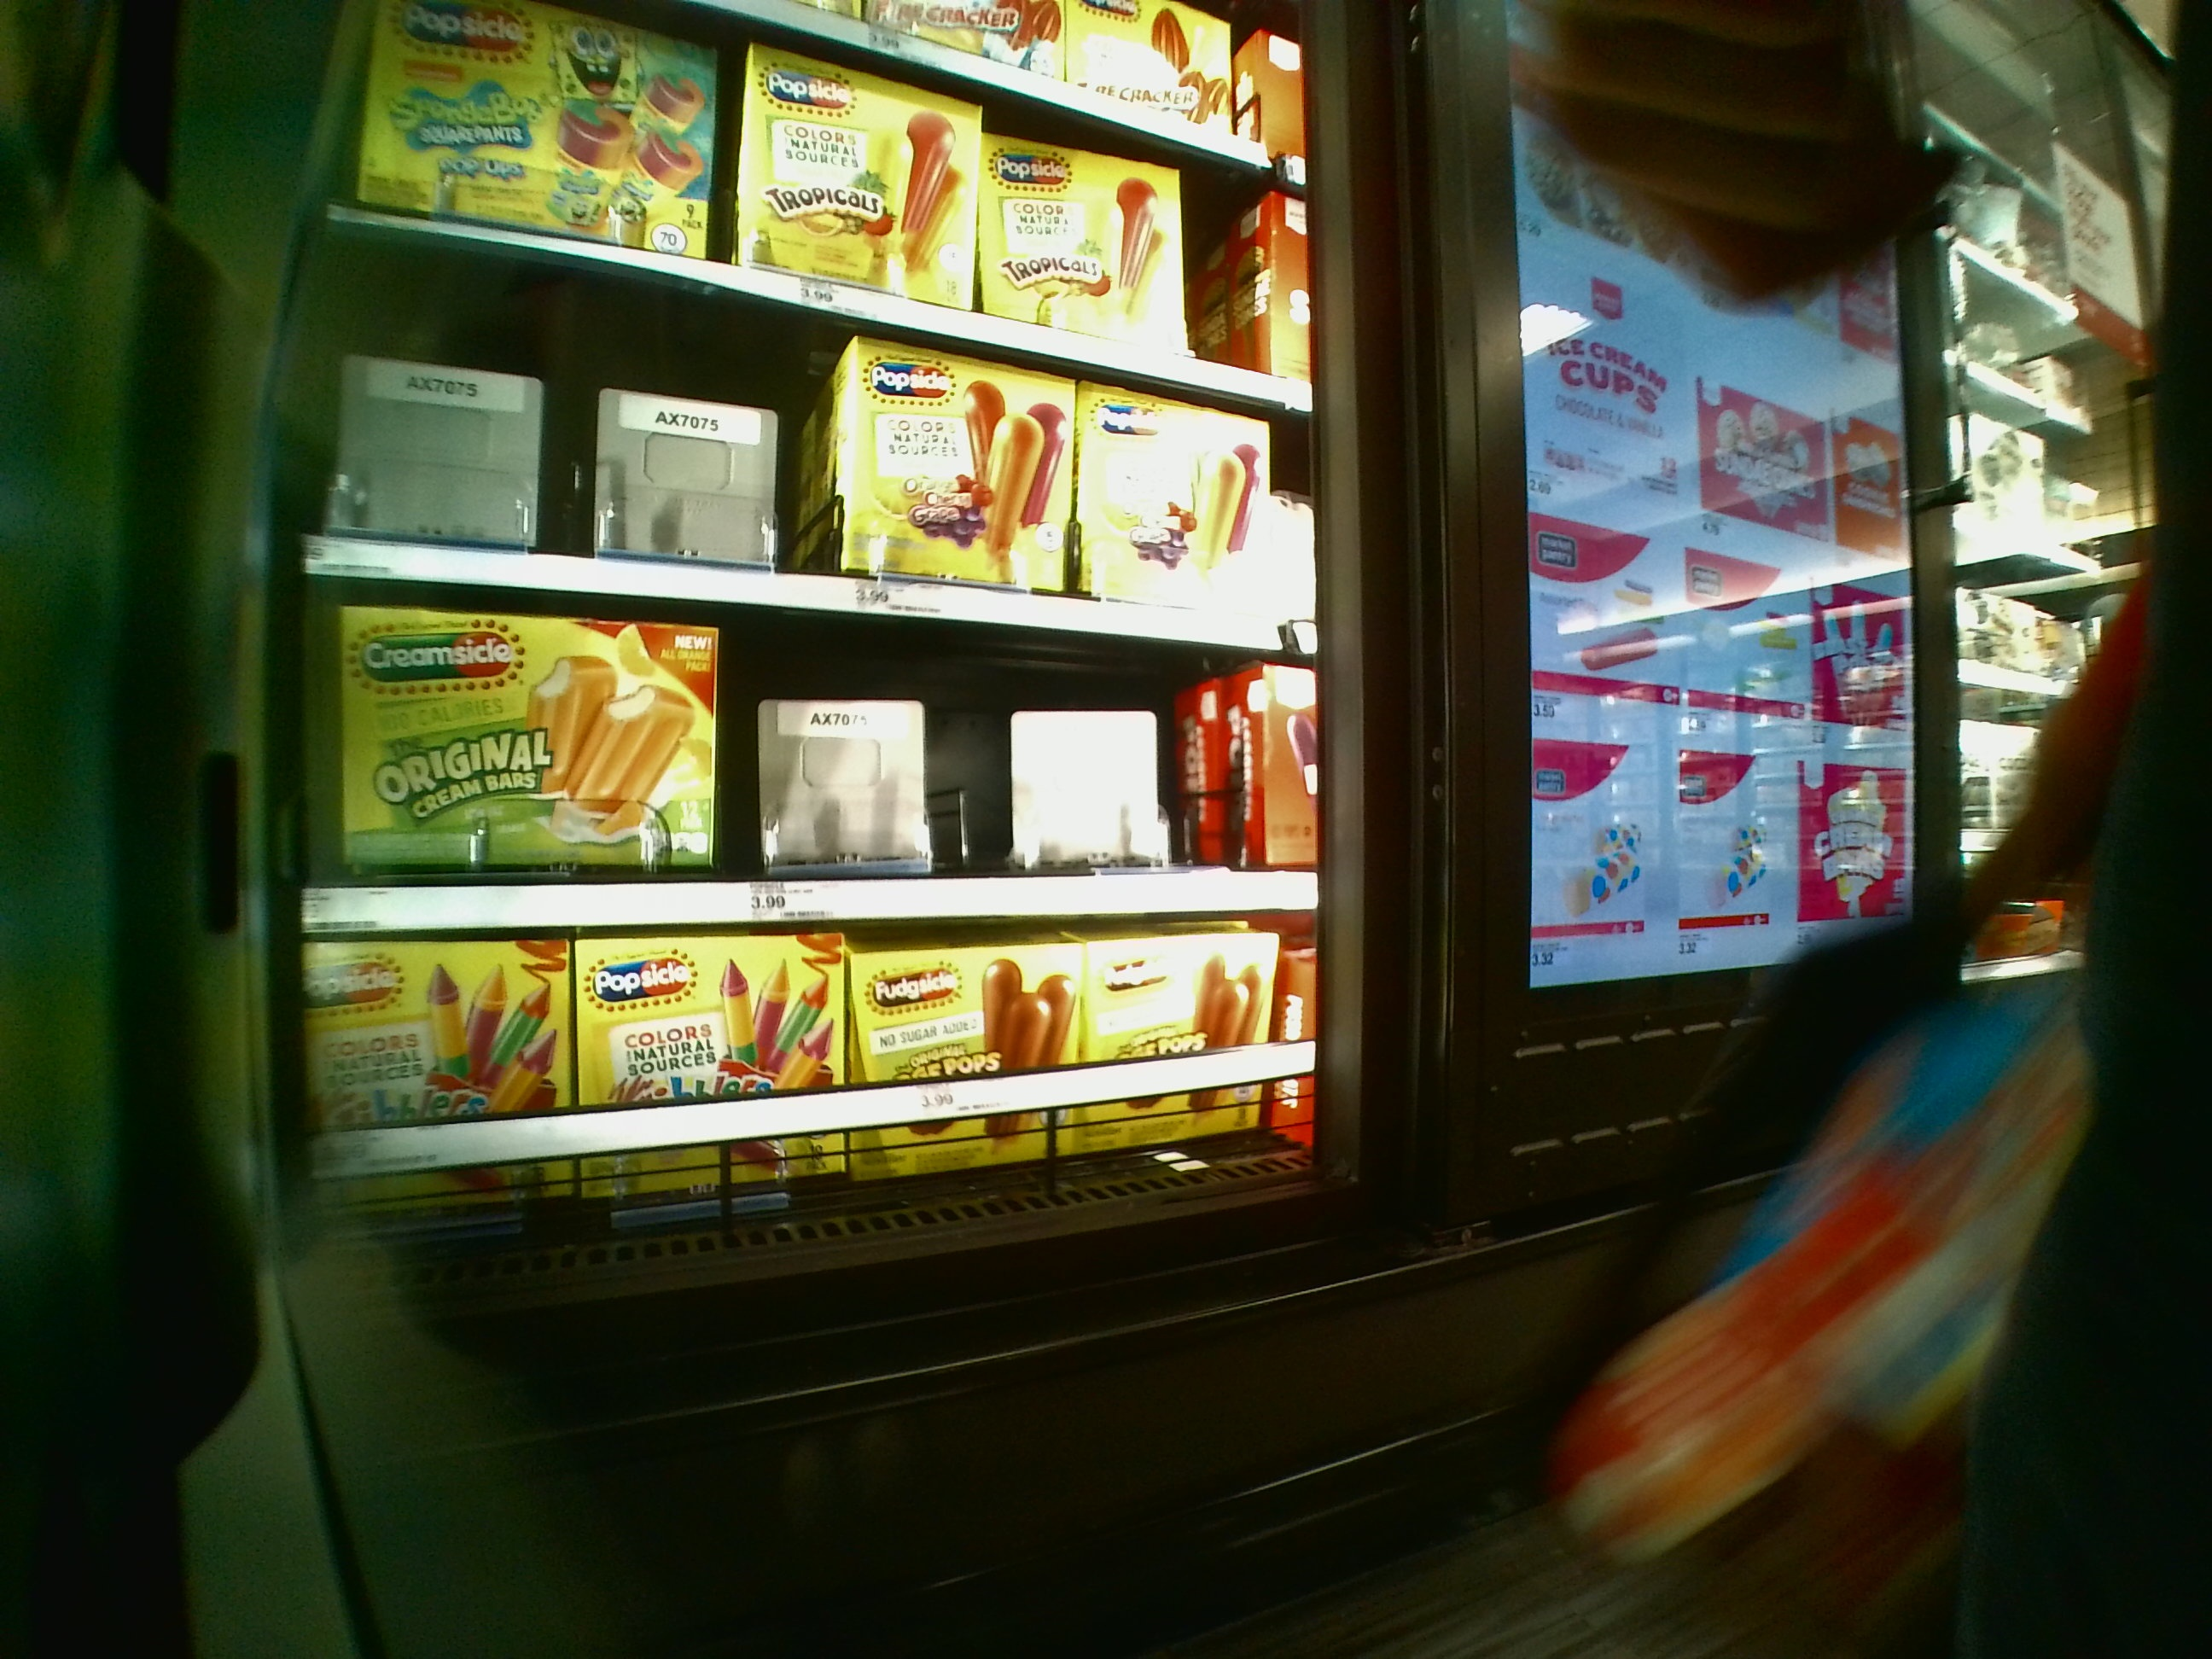shelf: (305, 608, 1317, 941), (287, 333, 1312, 629), (310, 950, 1318, 1229)
